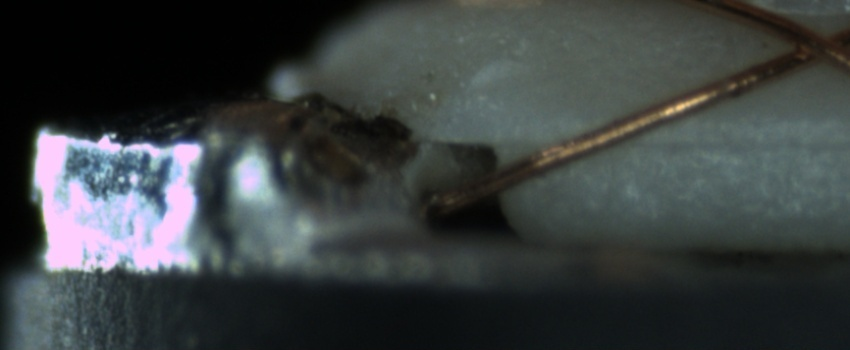CL: (766, 11, 846, 76)
DL: (608, 108, 845, 173)
